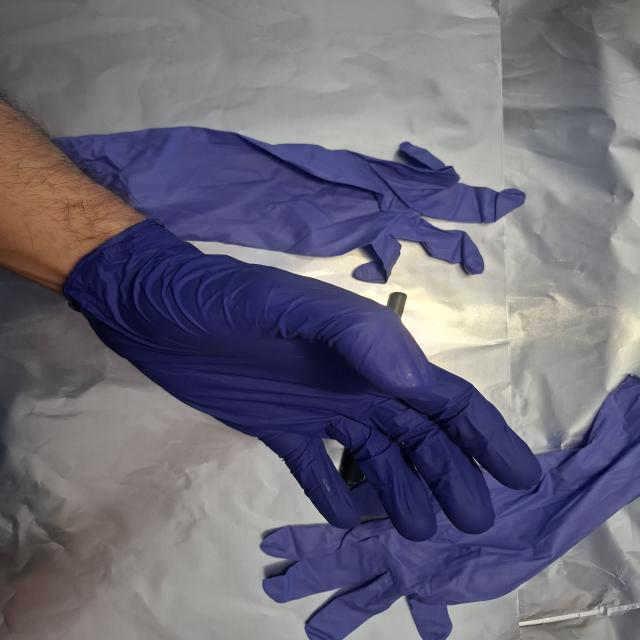glove_on: (69, 217, 546, 544)
